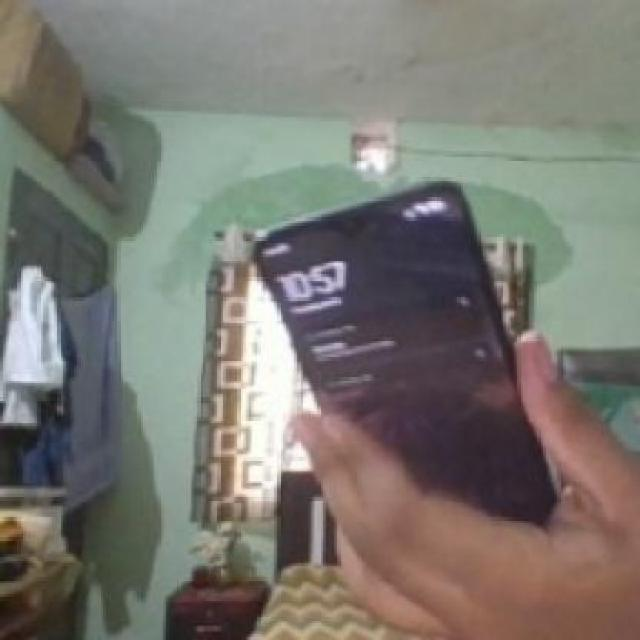Phone: (253, 176, 564, 534)
